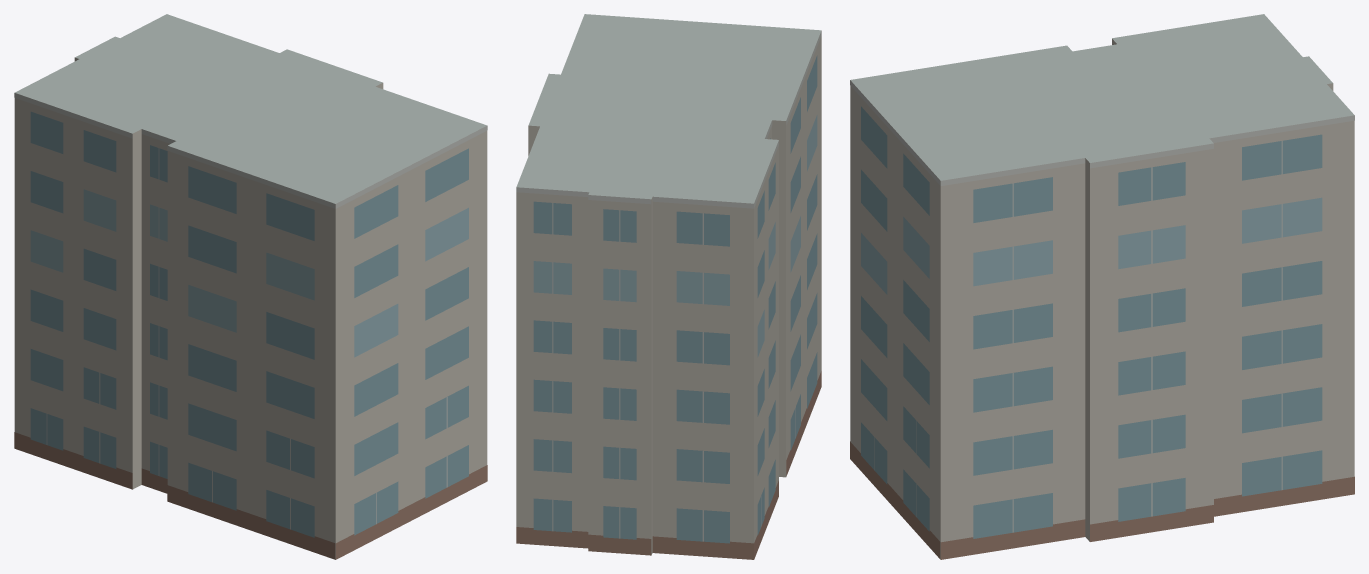
The model's file is survey-upis-32965680.glb.
3 renders of one model, left to right at view 1: azimuth 30°, elevation 25°; view 2: azimuth 150°, elevation 25°; view 3: azimuth 270°, elevation 25°, orthographic. The views are drawn at different scales.
Parts seen in each view (by area): view 1: survey-upis-32965680.tmp; view 2: survey-upis-32965680.tmp; view 3: survey-upis-32965680.tmp.
Part boxes in pixels (x1=…): survey-upis-32965680.tmp: x1=14, y1=14, x2=487, y2=559; survey-upis-32965680.tmp: x1=516, y1=14, x2=821, y2=559; survey-upis-32965680.tmp: x1=850, y1=14, x2=1354, y2=559.
Bounding box in the file's own units: 16.44 × 17.4 × 21.01.
